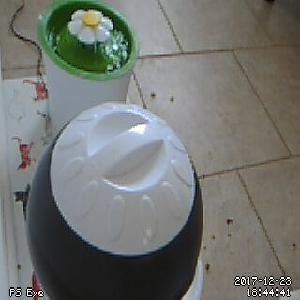fountain: (35, 1, 139, 82)
